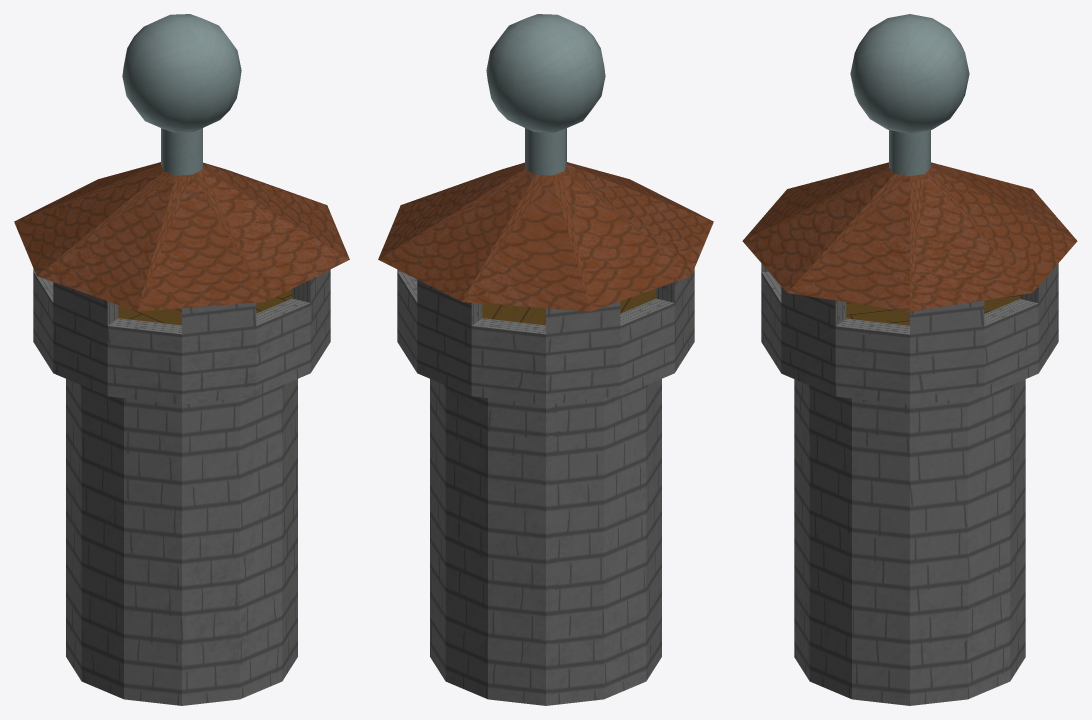
The model's file is Blitzturm.fbx.
3 renders of one model, left to right at view 1: azimuth 30°, elevation 25°; view 2: azimuth 150°, elevation 25°; view 3: azimuth 270°, elevation 25°, orthographic.
Parts seen in each view (by area): view 1: Blitzturm; view 2: Blitzturm; view 3: Blitzturm.
Boxes of the visible parts, x1,y1,x2,y2 form: Blitzturm: (14, 14, 349, 705); Blitzturm: (378, 14, 713, 705); Blitzturm: (742, 14, 1077, 705).
Bounding box in the file's own units: 290 × 607 × 290.
